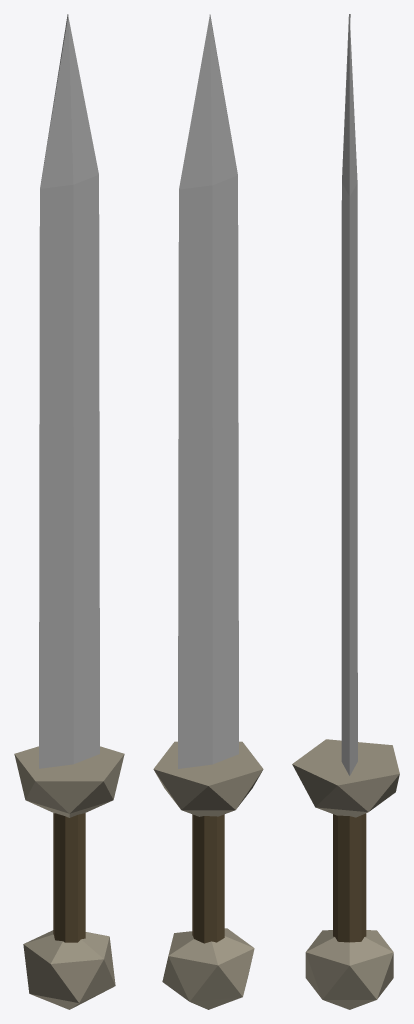
The model's file is sword_small.fbx.
3 views of the same model, side by side, from view 1: azimuth 30°, elevation 25°; view 2: azimuth 210°, elevation 25°; view 3: azimuth 270°, elevation 25° (orthographic).
Visible parts, largest first — view 1: Cylinder.001; view 2: Cylinder.001; view 3: Cylinder.001.
Part boxes in pixels (box(x1,y1,x2,y2)): Cylinder.001: box(14, 14, 124, 1009); Cylinder.001: box(153, 14, 263, 1009); Cylinder.001: box(292, 14, 399, 1009).
Bounding box in the file's own units: 0.0829 × 0.8302 × 0.0815.
